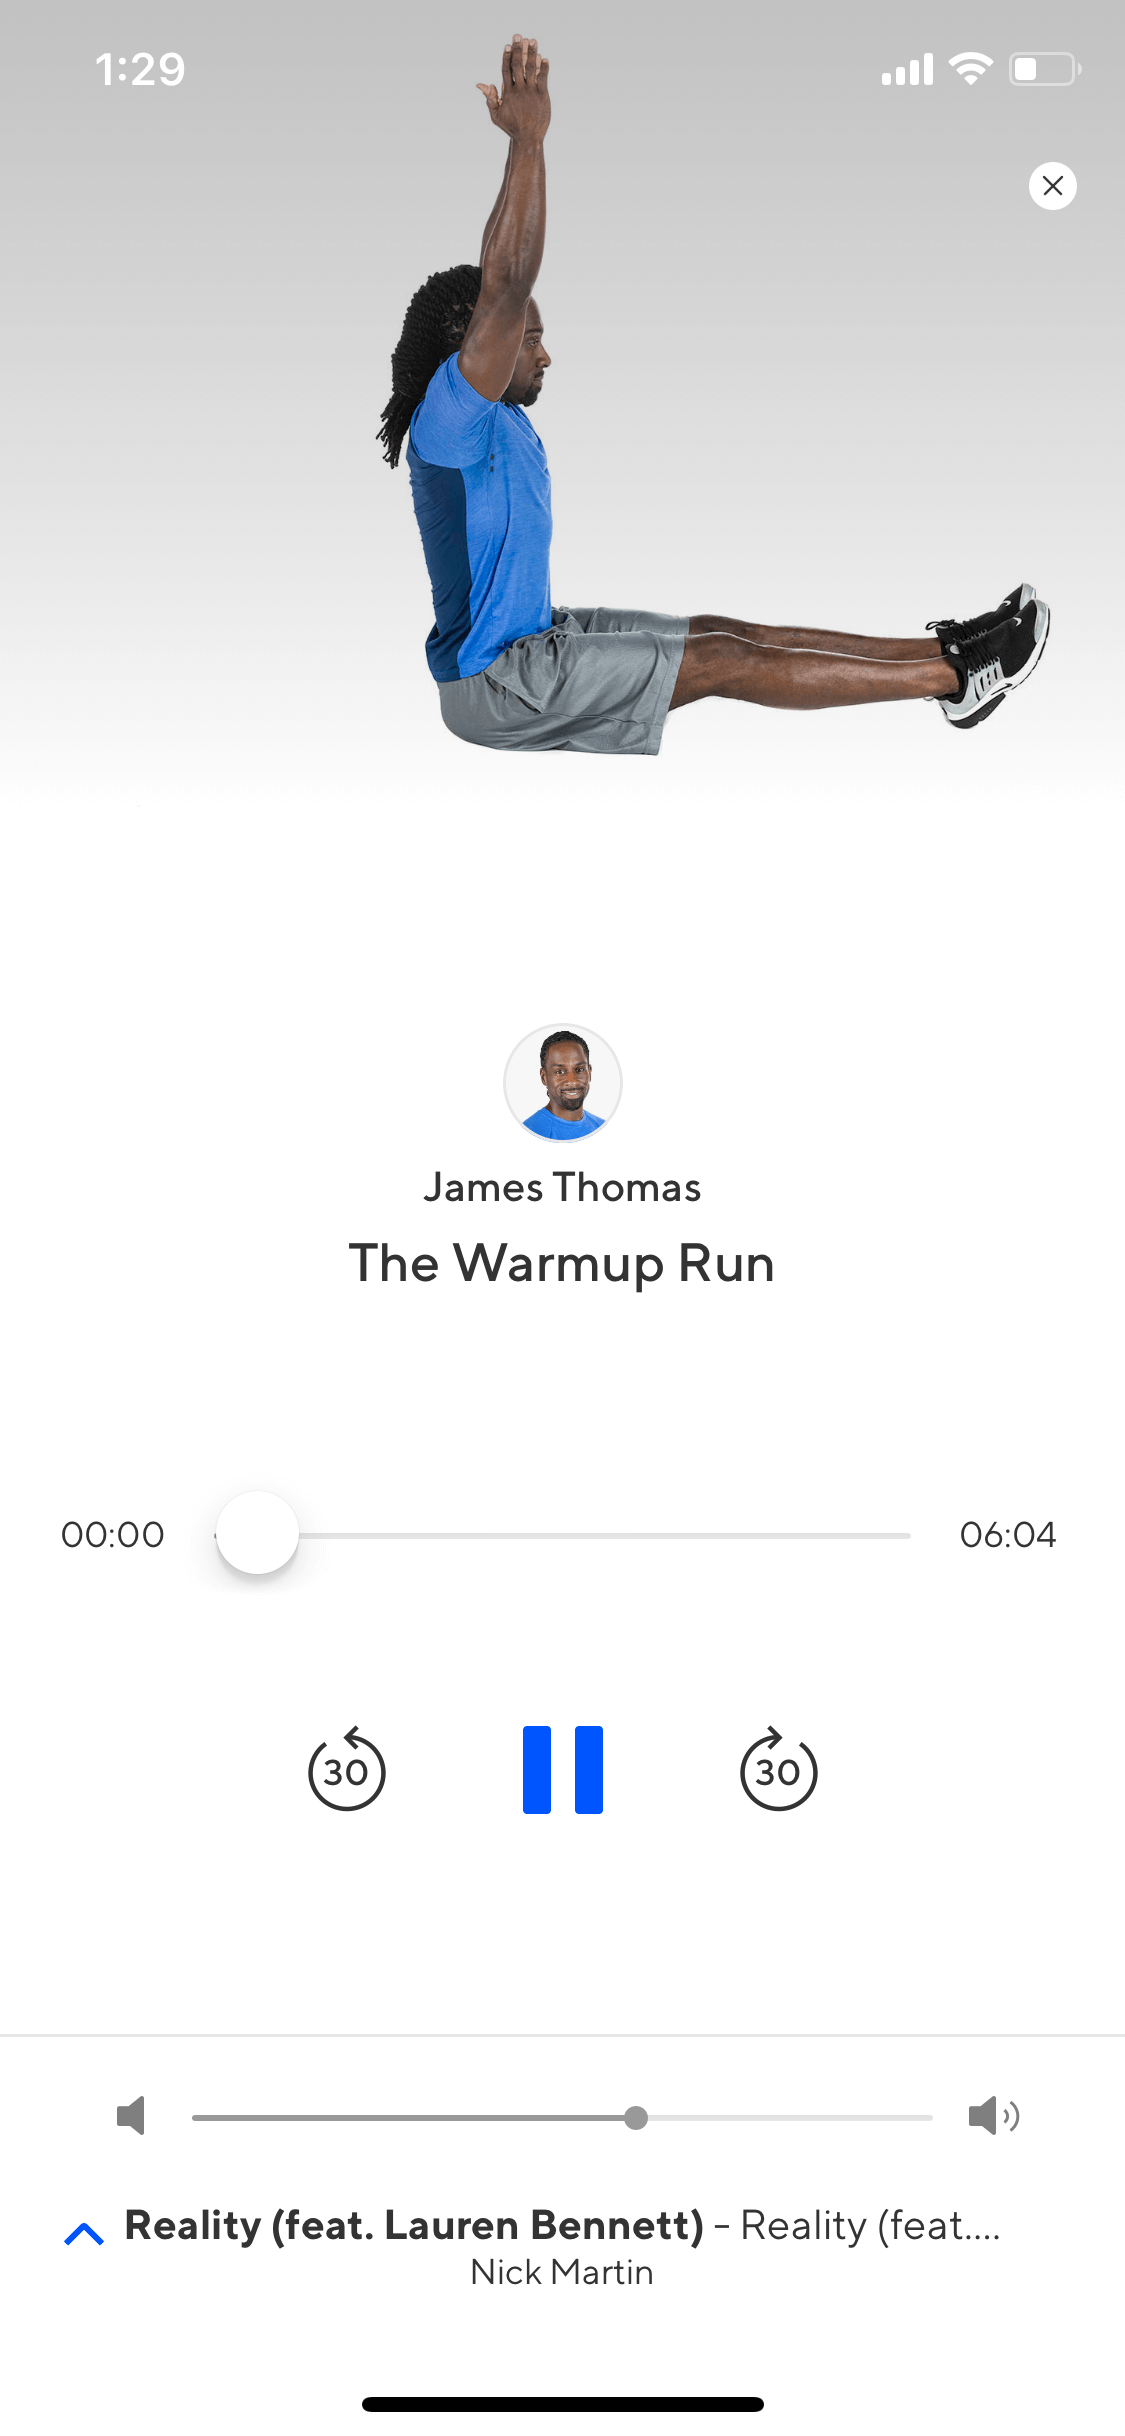Buttons: (482, 1690, 659, 1830), (281, 1690, 420, 1835), (723, 1698, 850, 1835), (1005, 138, 1092, 228), (42, 2191, 123, 2268)
Sliders: (44, 1487, 1078, 1592), (84, 2062, 1052, 2164)
